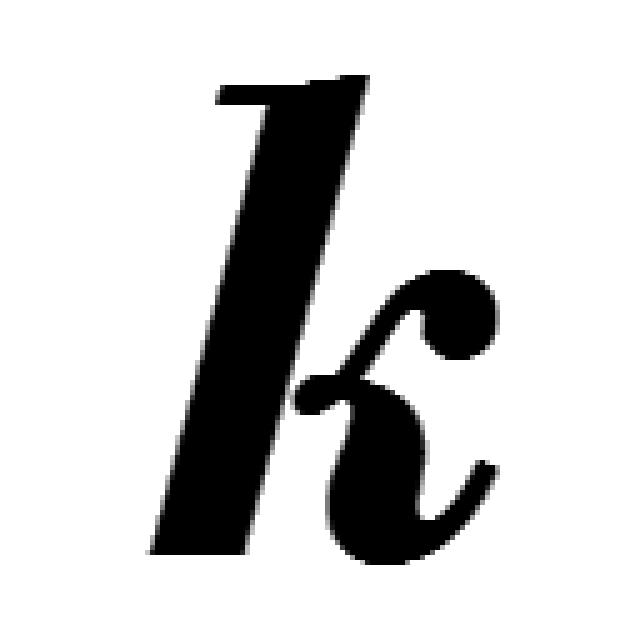K: (182, 83, 530, 556)
